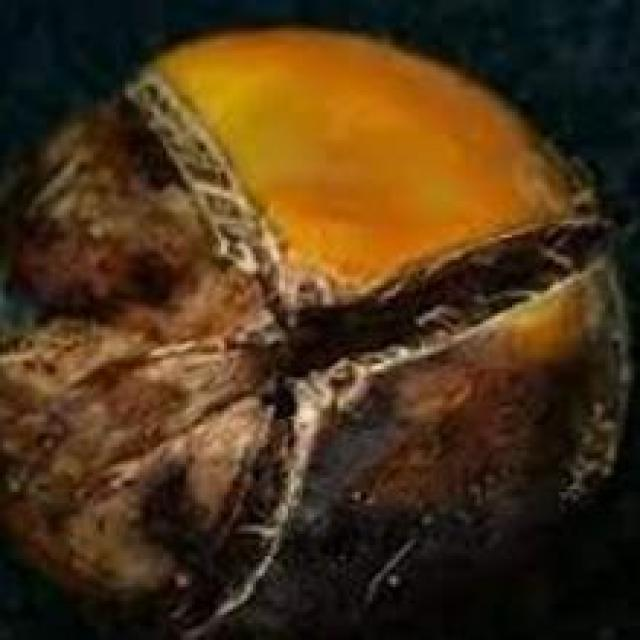damaged: (0, 31, 628, 637)
